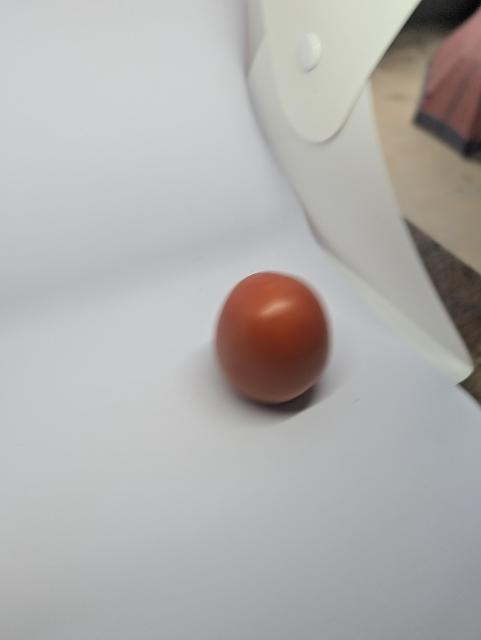red: (204, 252, 352, 415)
